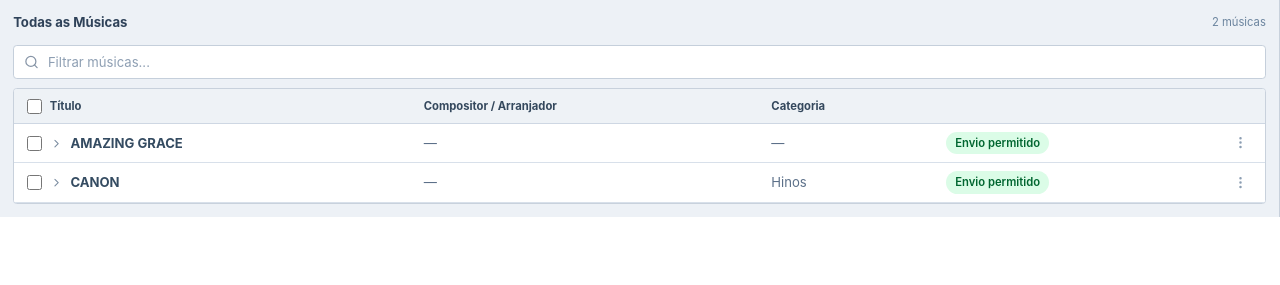
it: SongsList › shows the bulk action bar when a song is selected and hides it on clear
Expected: the text "CANON" is shown, [70, 173, 120, 192]
Expected: the text "selecionada" is not shown
Click the checkbox named "select CANON". click: click(35, 183)
box: [27, 175, 42, 190]
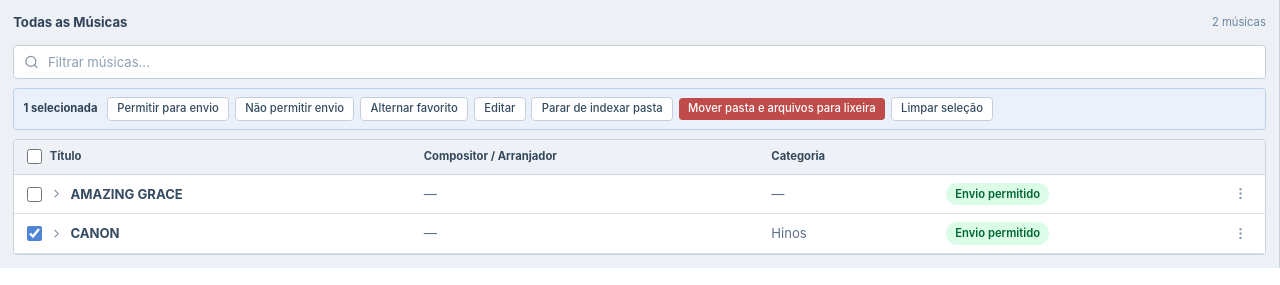
Expected: the text "1 selecionada" is shown, [24, 101, 98, 116]
Expected: the button "Parar de indexar pasta" is shown, [531, 97, 673, 121]
Click the button "Limpar seleção". click: click(942, 109)
box: [891, 97, 993, 121]
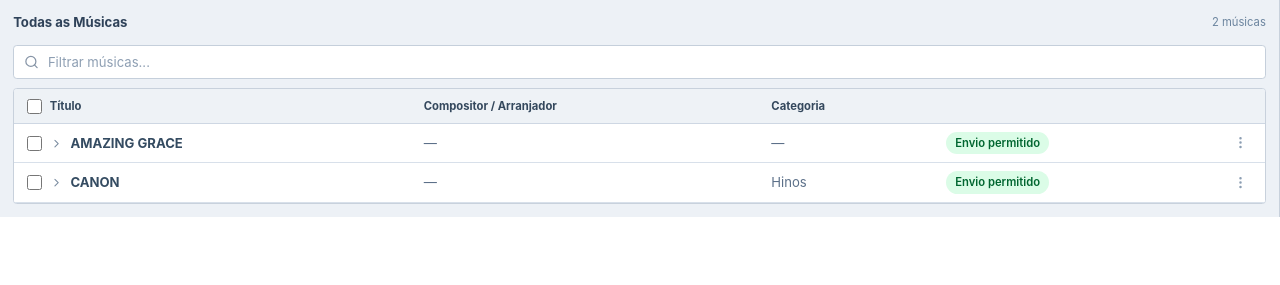
Expected: the text "selecionada" is gone
Expected: the button "Parar de indexar pasta" is gone
